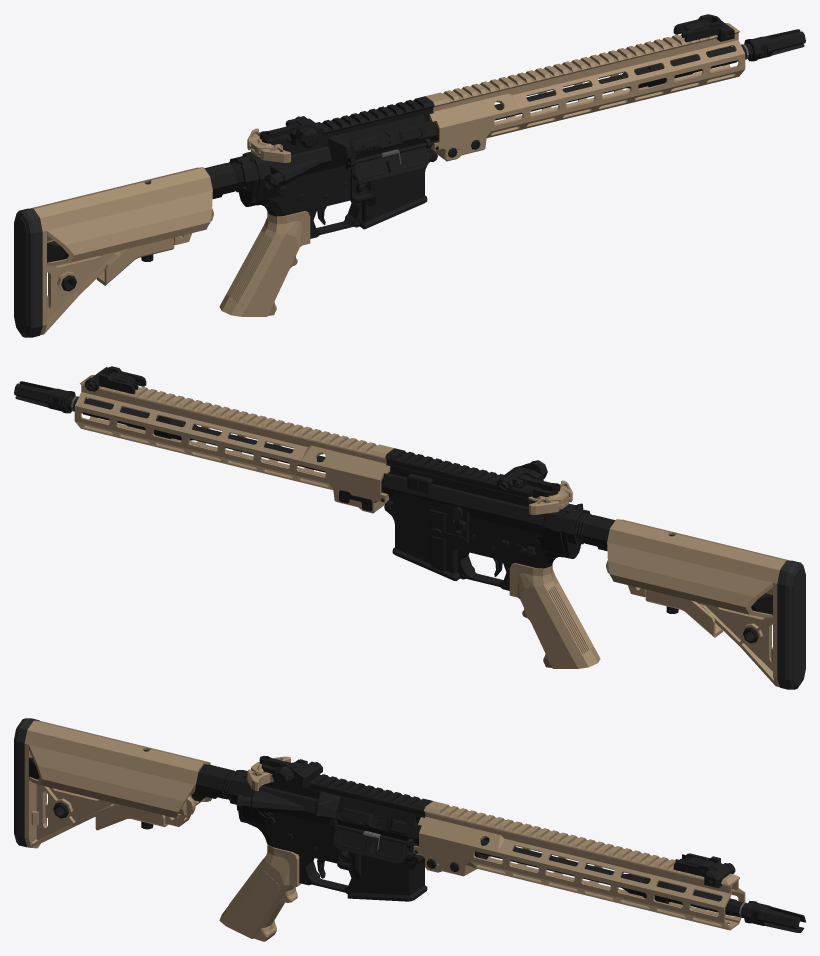
File: Sopmod Model.fbx
The picture shows the model from 3 angles, top to bottom: view 1: azimuth 30°, elevation 25°; view 2: azimuth 150°, elevation 25°; view 3: azimuth 330°, elevation 25°; orthographic projection.
Visible parts, largest first — view 1: urgi stock, urgi handguard, urgi lower receiver, urgi upper receiver, urgi pistol grip, urgi dust cover, urgi 14.5in barrel, urgi flash hider, urgi rear sight, urgi front sight, urgi bolt carrier, urgi charging handle; view 2: urgi stock, urgi handguard, urgi lower receiver, urgi upper receiver, urgi pistol grip, urgi 14.5in barrel, urgi rear sight, urgi flash hider, urgi front sight, urgi charging handle; view 3: urgi stock, urgi handguard, urgi lower receiver, urgi upper receiver, urgi pistol grip, urgi 14.5in barrel, urgi dust cover, urgi flash hider, urgi rear sight, urgi front sight, urgi bolt carrier, urgi charging handle.
Part boxes in pixels (<box>): urgi stock: <box>14,167,213,337</box>; urgi handguard: <box>425,23,745,161</box>; urgi lower receiver: <box>145,149,437,238</box>; urgi upper receiver: <box>261,96,438,190</box>; urgi pistol grip: <box>219,211,310,316</box>; urgi dust cover: <box>347,140,438,181</box>; urgi 14.5in barrel: <box>437,43,753,140</box>; urgi flash hider: <box>744,29,805,61</box>; urgi rear sight: <box>259,116,323,148</box>; urgi front sight: <box>673,14,734,42</box>; urgi bolt carrier: <box>353,127,421,153</box>; urgi charging handle: <box>247,128,290,162</box>; urgi stock: <box>606,519,805,689</box>; urgi handguard: <box>74,375,394,513</box>; urgi lower receiver: <box>384,500,674,590</box>; urgi upper receiver: <box>381,448,583,536</box>; urgi pistol grip: <box>509,563,600,668</box>; urgi 14.5in barrel: <box>66,395,382,492</box>; urgi rear sight: <box>497,460,560,491</box>; urgi flash hider: <box>14,381,75,413</box>; urgi front sight: <box>84,366,146,394</box>; urgi charging handle: <box>528,480,572,514</box>; urgi stock: <box>14,718,212,848</box>; urgi handguard: <box>413,801,745,930</box>; urgi lower receiver: <box>143,749,427,901</box>; urgi upper receiver: <box>236,764,432,850</box>; urgi pistol grip: <box>219,844,301,941</box>; urgi 14.5in barrel: <box>474,837,747,917</box>; urgi dust cover: <box>329,823,418,863</box>; urgi flash hider: <box>743,901,805,932</box>; urgi rear sight: <box>259,756,322,787</box>; urgi front sight: <box>673,853,735,888</box>; urgi bolt carrier: <box>339,808,408,834</box>; urgi charging handle: <box>247,756,290,791</box>.
Size of the model in its own units: 342 by 78.38 by 27.99.
